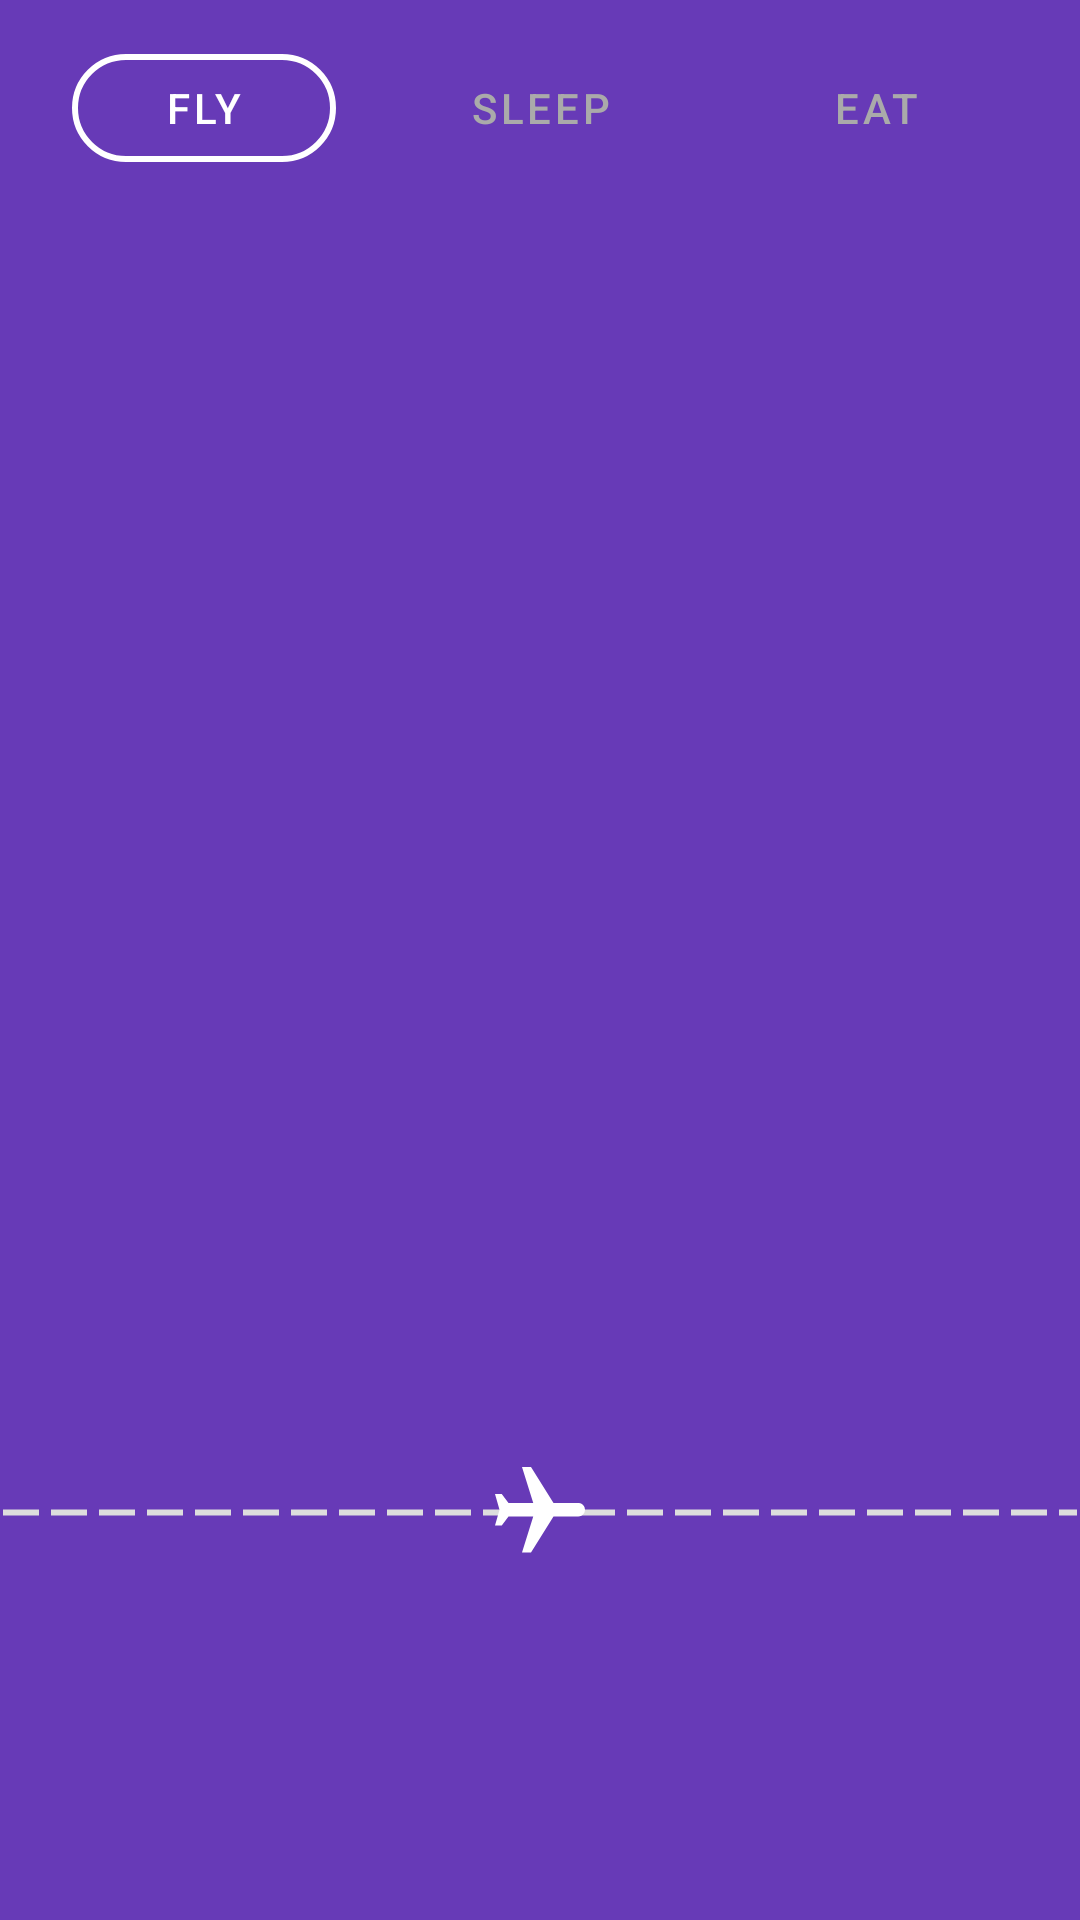

Named icons in this screenshot (1080px×1920px) and their bounding boxes, bbox(x1, y1, x2, y2):
rotated flight: bbox(486, 1467, 594, 1553)
